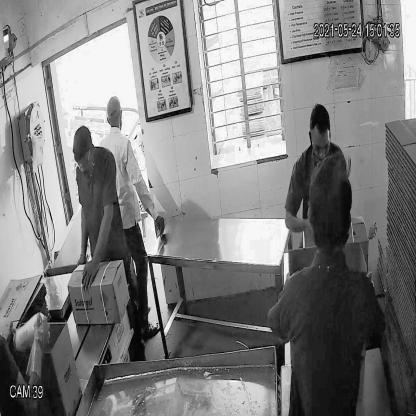goggles: (308, 136, 333, 159), (72, 152, 94, 170)
